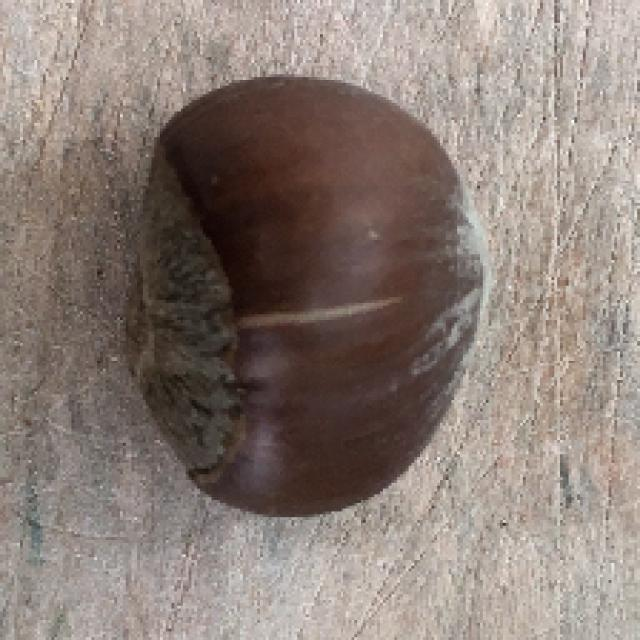DamagedHazelnut: (122, 77, 498, 521)
